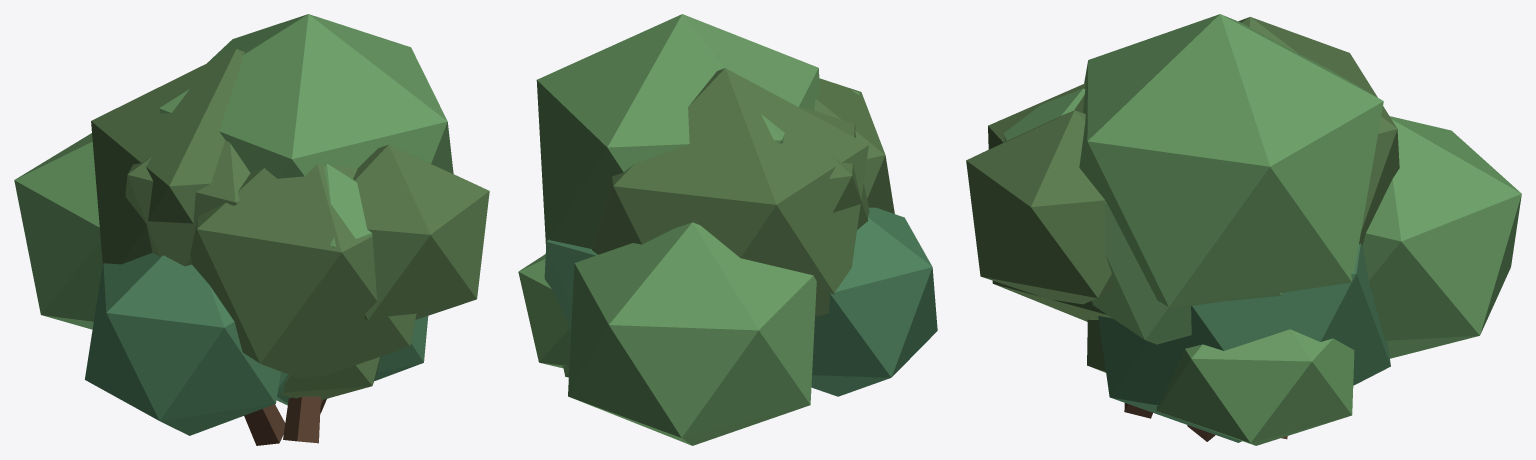
Rendered from buisson.glb.
The picture shows the model from 3 angles, left to right: view 1: azimuth 30°, elevation 25°; view 2: azimuth 150°, elevation 25°; view 3: azimuth 270°, elevation 25°; orthographic projection. The views are drawn at different scales.
Parts seen in each view (by area): view 1: buisson; view 2: buisson; view 3: buisson.
Boxes of the visible parts, x1,y1,x2,y2 form: buisson: (14, 14, 489, 445); buisson: (518, 14, 937, 445); buisson: (966, 14, 1521, 445).
Bounding box in the file's own units: 1.62 × 1.69 × 1.97.
